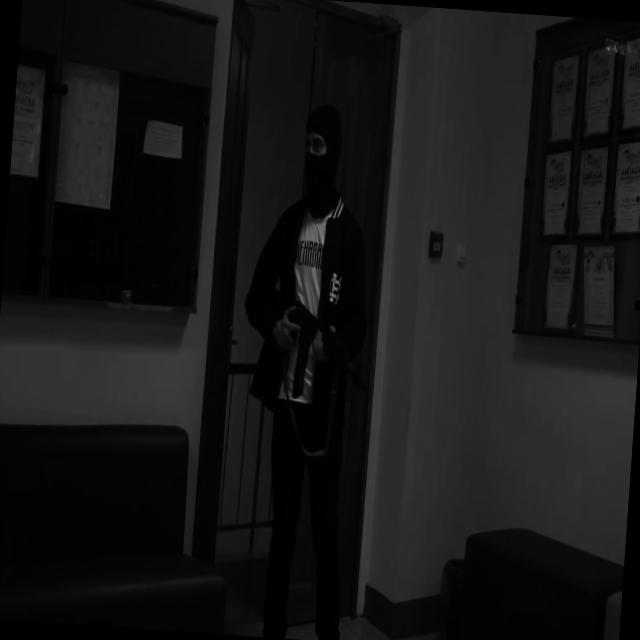gun: (260, 284, 376, 402)
person with a gun: (221, 98, 388, 640)
